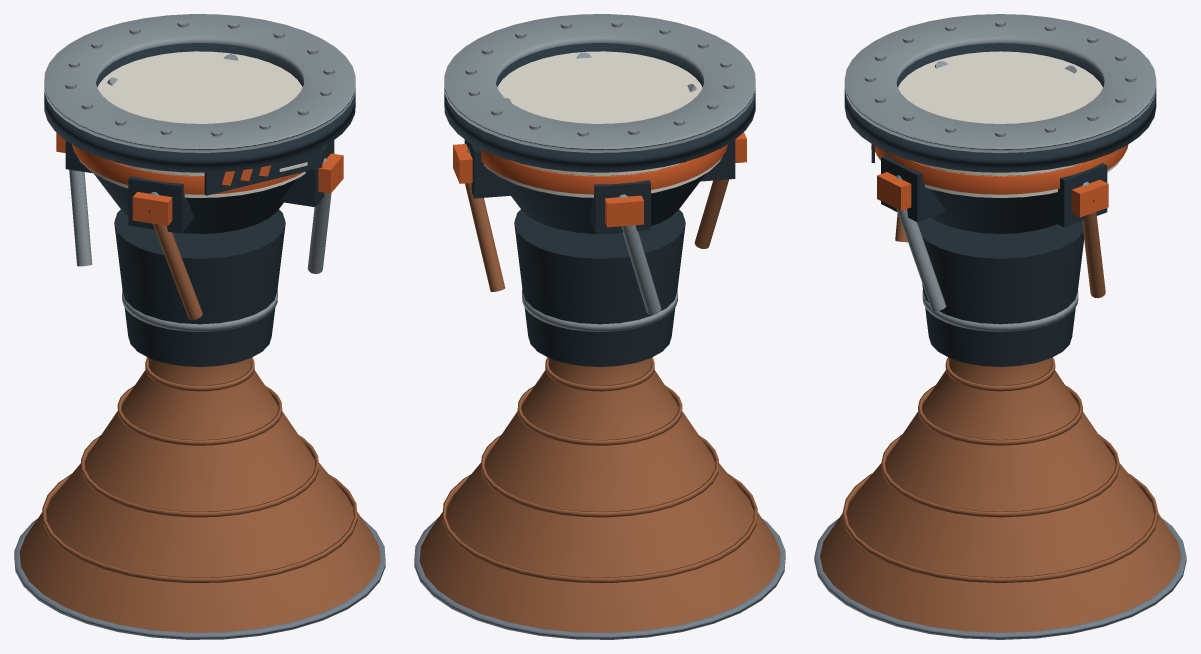
File: k_420_kedr.glb
3 renders of one model, left to right at view 1: azimuth 30°, elevation 25°; view 2: azimuth 150°, elevation 25°; view 3: azimuth 270°, elevation 25°, orthographic.
Visible parts, largest first — view 1: k_420_kedr.gimbal_pitch.gimbal_yaw.nozzle.mesh_JUGRE_·_heat-, k_420_kedr.upper_hardware.mesh_JUGRE_·_bead-blasted_titanium, k_420_kedr.gimbal_pitch.gimbal_yaw.mesh_JUGRE_·_graphite_com, k_420_kedr.upper_hardware.mesh_JUGRE_·_bone_ceramic, k_420_kedr.upper_hardware.mesh_JUGRE_·_graphite_composite, k_420_kedr.gimbal_pitch.gimbal_yaw.nozzle.mesh_Machined_stee, k_420_kedr.upper_hardware.mesh_JUGRE_·_oxide_orange, k_420_kedr.upper_hardware.pump_04.mesh_JUGRE_·_graphite_comp, k_420_kedr.upper_hardware.mark_0.mesh_JUGRE_·_graphite_compo, k_420_kedr.upper_hardware.mesh_JUGRE_·_heat-resistant_copper, k_420_kedr.gimbal_pitch.gimbal_yaw.mesh_JUGRE_·_bead-blasted, k_420_kedr.upper_hardware.pump_01.mesh_JUGRE_·_graphite_comp (+2 smaller); view 2: k_420_kedr.gimbal_pitch.gimbal_yaw.nozzle.mesh_JUGRE_·_heat-, k_420_kedr.upper_hardware.mesh_JUGRE_·_bead-blasted_titanium, k_420_kedr.gimbal_pitch.gimbal_yaw.mesh_JUGRE_·_graphite_com, k_420_kedr.upper_hardware.mesh_JUGRE_·_bone_ceramic, k_420_kedr.upper_hardware.mesh_JUGRE_·_graphite_composite, k_420_kedr.upper_hardware.mesh_JUGRE_·_oxide_orange, k_420_kedr.gimbal_pitch.gimbal_yaw.nozzle.mesh_Machined_stee, k_420_kedr.upper_hardware.mesh_JUGRE_·_heat-resistant_copper, k_420_kedr.upper_hardware.pump_03.mesh_JUGRE_·_graphite_comp, k_420_kedr.gimbal_pitch.gimbal_yaw.mesh_JUGRE_·_bead-blasted, k_420_kedr.upper_hardware.pump_02.mesh_JUGRE_·_graphite_comp, k_420_kedr.upper_hardware.pump_03.mesh_JUGRE_·_oxide_orange (+2 smaller); view 3: k_420_kedr.gimbal_pitch.gimbal_yaw.nozzle.mesh_JUGRE_·_heat-, k_420_kedr.upper_hardware.mesh_JUGRE_·_bead-blasted_titanium, k_420_kedr.gimbal_pitch.gimbal_yaw.mesh_JUGRE_·_graphite_com, k_420_kedr.upper_hardware.mesh_JUGRE_·_bone_ceramic, k_420_kedr.upper_hardware.mesh_JUGRE_·_graphite_composite, k_420_kedr.gimbal_pitch.gimbal_yaw.nozzle.mesh_Machined_stee, k_420_kedr.upper_hardware.mesh_JUGRE_·_oxide_orange, k_420_kedr.upper_hardware.pump_02.mesh_JUGRE_·_graphite_comp, k_420_kedr.upper_hardware.pump_01.mesh_JUGRE_·_graphite_comp, k_420_kedr.upper_hardware.mesh_JUGRE_·_heat-resistant_copper, k_420_kedr.gimbal_pitch.gimbal_yaw.mesh_JUGRE_·_bead-blasted, k_420_kedr.upper_hardware.pump_02.mesh_JUGRE_·_oxide_orange (+1 smaller).
Boxes of the visible parts, x1,y1,x2,y2 form: k_420_kedr.gimbal_pitch.gimbal_yaw.nozzle.mesh_JUGRE_·_heat-: (19,357,380,632); k_420_kedr.upper_hardware.mesh_JUGRE_·_bead-blasted_titanium: (44,14,355,273); k_420_kedr.gimbal_pitch.gimbal_yaw.mesh_JUGRE_·_graphite_com: (114,209,285,366); k_420_kedr.upper_hardware.mesh_JUGRE_·_bone_ceramic: (78,51,305,197); k_420_kedr.upper_hardware.mesh_JUGRE_·_graphite_composite: (44,43,355,233); k_420_kedr.gimbal_pitch.gimbal_yaw.nozzle.mesh_Machined_stee: (14,517,385,639); k_420_kedr.upper_hardware.mesh_JUGRE_·_oxide_orange: (72,144,303,194); k_420_kedr.upper_hardware.pump_04.mesh_JUGRE_·_graphite_comp: (128,176,194,233); k_420_kedr.upper_hardware.mark_0.mesh_JUGRE_·_graphite_compo: (204,148,322,195); k_420_kedr.upper_hardware.mesh_JUGRE_·_heat-resistant_copper: (153,223,202,319); k_420_kedr.gimbal_pitch.gimbal_yaw.mesh_JUGRE_·_bead-blasted: (122,290,277,331); k_420_kedr.upper_hardware.pump_01.mesh_JUGRE_·_graphite_comp: (279,140,334,207); k_420_kedr.gimbal_pitch.gimbal_yaw.nozzle.mesh_JUGRE_·_heat-: (419,357,780,632); k_420_kedr.upper_hardware.mesh_JUGRE_·_bead-blasted_titanium: (444,14,755,314); k_420_kedr.gimbal_pitch.gimbal_yaw.mesh_JUGRE_·_graphite_com: (514,209,685,366); k_420_kedr.upper_hardware.mesh_JUGRE_·_bone_ceramic: (484,51,721,197); k_420_kedr.upper_hardware.mesh_JUGRE_·_graphite_composite: (444,43,755,233); k_420_kedr.upper_hardware.mesh_JUGRE_·_oxide_orange: (479,144,727,194); k_420_kedr.gimbal_pitch.gimbal_yaw.nozzle.mesh_Machined_stee: (414,517,785,639); k_420_kedr.upper_hardware.mesh_JUGRE_·_heat-resistant_copper: (465,179,728,291); k_420_kedr.upper_hardware.pump_03.mesh_JUGRE_·_graphite_comp: (589,180,650,234); k_420_kedr.gimbal_pitch.gimbal_yaw.mesh_JUGRE_·_bead-blasted: (522,290,677,331); k_420_kedr.upper_hardware.pump_02.mesh_JUGRE_·_graphite_comp: (464,139,511,198); k_420_kedr.upper_hardware.pump_03.mesh_JUGRE_·_oxide_orange: (605,195,643,227); k_420_kedr.gimbal_pitch.gimbal_yaw.nozzle.mesh_JUGRE_·_heat-: (820,357,1180,632); k_420_kedr.upper_hardware.mesh_JUGRE_·_bead-blasted_titanium: (844,14,1156,311); k_420_kedr.gimbal_pitch.gimbal_yaw.mesh_JUGRE_·_graphite_com: (917,217,1084,366); k_420_kedr.upper_hardware.mesh_JUGRE_·_bone_ceramic: (877,51,1123,197); k_420_kedr.upper_hardware.mesh_JUGRE_·_graphite_composite: (844,43,1156,233); k_420_kedr.gimbal_pitch.gimbal_yaw.nozzle.mesh_Machined_stee: (814,518,1186,639); k_420_kedr.upper_hardware.mesh_JUGRE_·_oxide_orange: (875,145,1128,194); k_420_kedr.upper_hardware.pump_02.mesh_JUGRE_·_graphite_comp: (1040,163,1107,227); k_420_kedr.upper_hardware.pump_01.mesh_JUGRE_·_graphite_comp: (881,155,946,221); k_420_kedr.upper_hardware.mesh_JUGRE_·_heat-resistant_copper: (895,212,1105,298); k_420_kedr.gimbal_pitch.gimbal_yaw.mesh_JUGRE_·_bead-blasted: (922,290,1078,331); k_420_kedr.upper_hardware.pump_02.mesh_JUGRE_·_oxide_orange: (1071,179,1108,217).
Size of the model in its own units: 1.86 by 2.67 by 1.86.
